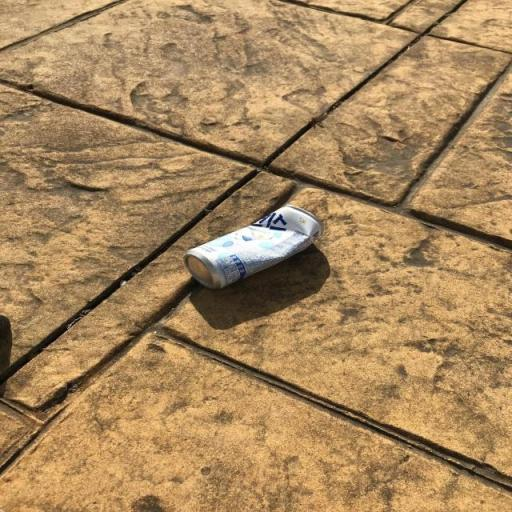metal: (174, 198, 344, 300)
